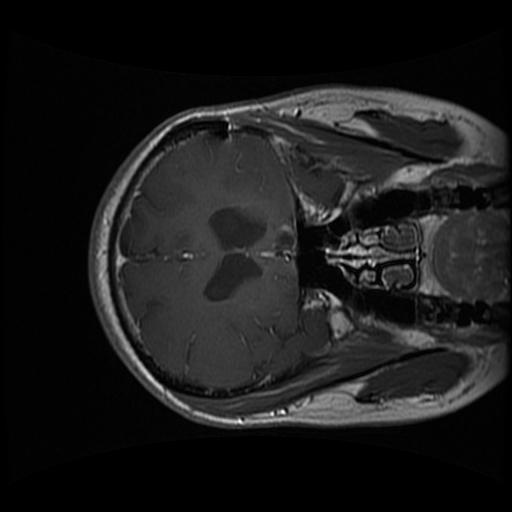glioma: (268, 222, 299, 261)
